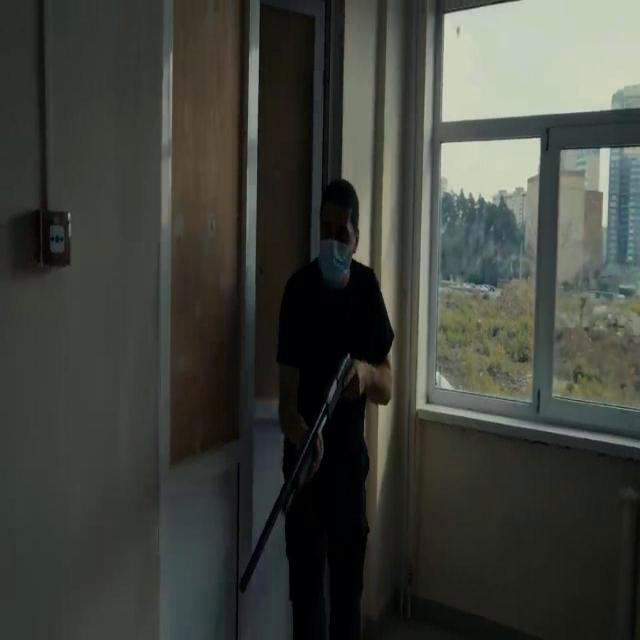gun: (235, 178, 395, 640), (238, 348, 354, 594)
